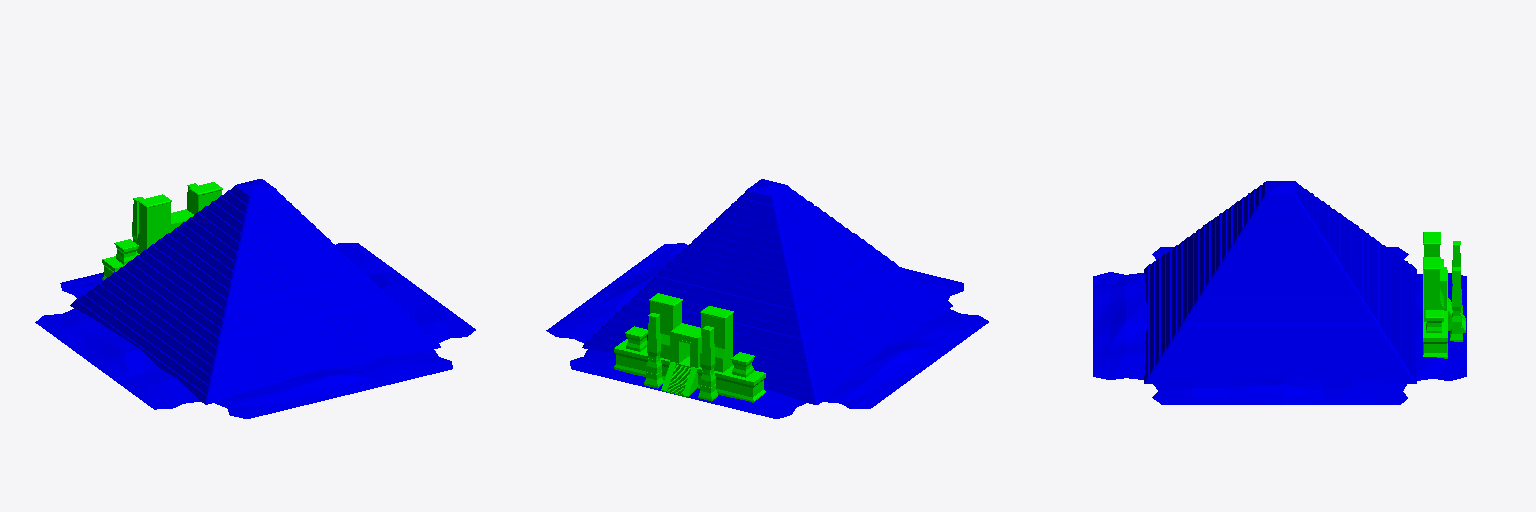
The model's file is pyramids.obj.
3 views of the same model, side by side, from view 1: azimuth 30°, elevation 25°; view 2: azimuth 150°, elevation 25°; view 3: azimuth 270°, elevation 25° (orthographic).
Visible parts, largest first — view 1: pCube12, polySurface9; view 2: pCube12, polySurface9; view 3: pCube12, polySurface9.
Boxes of the visible parts, x1=… form: pCube12: x1=35, y1=179, x2=475, y2=418; polySurface9: x1=102, y1=182, x2=222, y2=280; pCube12: x1=546, y1=179, x2=988, y2=418; polySurface9: x1=614, y1=293, x2=765, y2=402; pCube12: x1=1093, y1=181, x2=1466, y2=404; polySurface9: x1=1423, y1=232, x2=1465, y2=358.
Bounding box in the file's own units: 14.98 × 6.24 × 14.97.